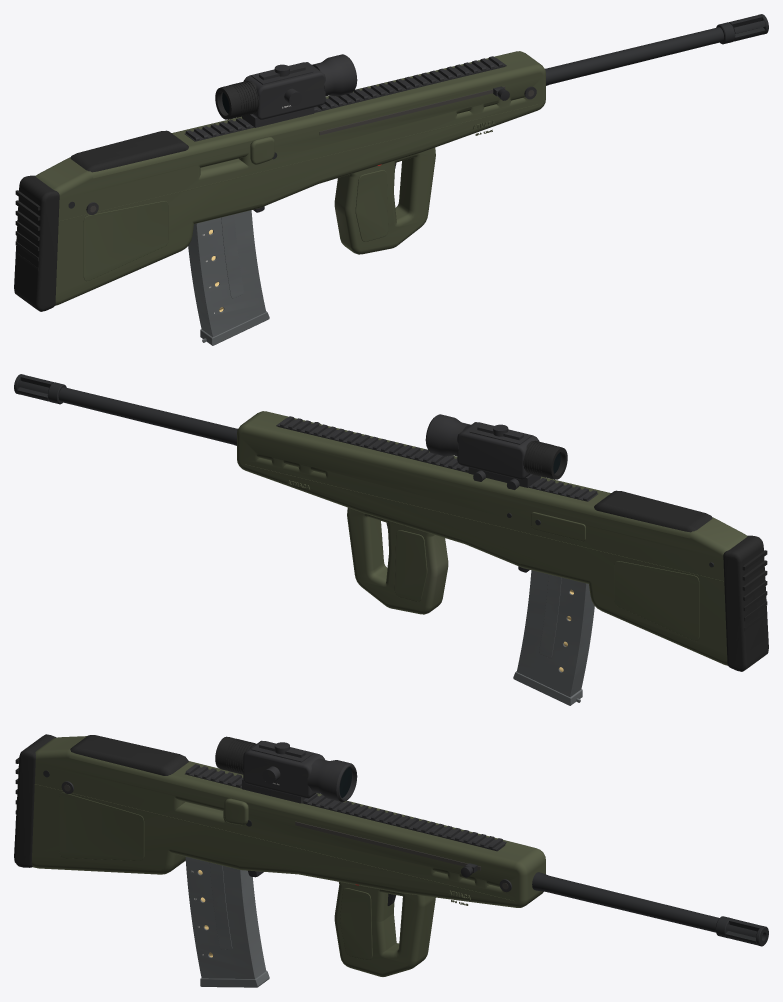
Rendered from atmaca.glb.
The picture shows the model from 3 angles, top to bottom: view 1: azimuth 30°, elevation 25°; view 2: azimuth 150°, elevation 25°; view 3: azimuth 330°, elevation 25°; orthographic projection.
Visible parts, largest first — view 1: govde, sarjor, kabza, nisangah, namlu; view 2: govde, sarjor, kabza, nisangah, namlu; view 3: govde, sarjor, kabza, nisangah, namlu.
Part boxes in pixels (<box>): govde: <box>14,51,545,311</box>; sarjor: <box>188,210,269,345</box>; kabza: <box>334,147,435,254</box>; nisangah: <box>215,54,357,127</box>; namlu: <box>545,14,768,85</box>; govde: <box>237,411,768,671</box>; sarjor: <box>513,570,594,705</box>; kabza: <box>347,507,448,614</box>; nisangah: <box>425,414,567,489</box>; namlu: <box>14,374,237,445</box>; govde: <box>14,734,545,907</box>; sarjor: <box>185,856,269,987</box>; kabza: <box>334,882,435,976</box>; nisangah: <box>215,736,357,803</box>; namlu: <box>532,872,768,946</box>.
Size of the model in its own units: 0.8776 by 0.2898 by 0.0693.
